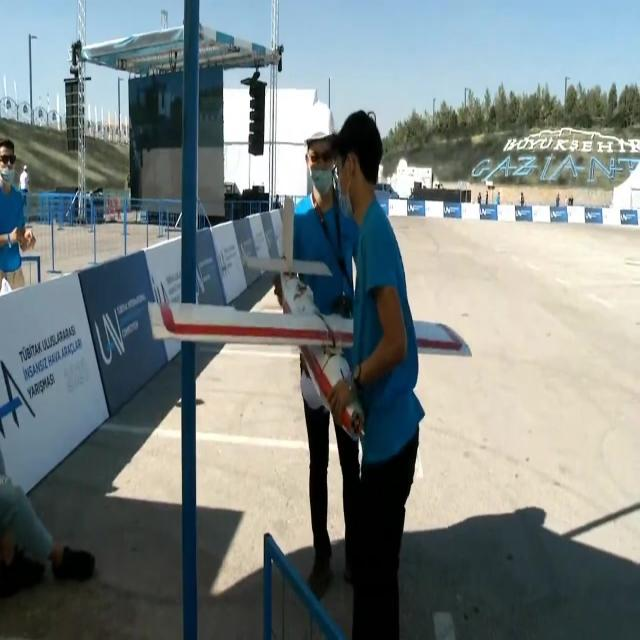iha: (150, 194, 470, 443)
